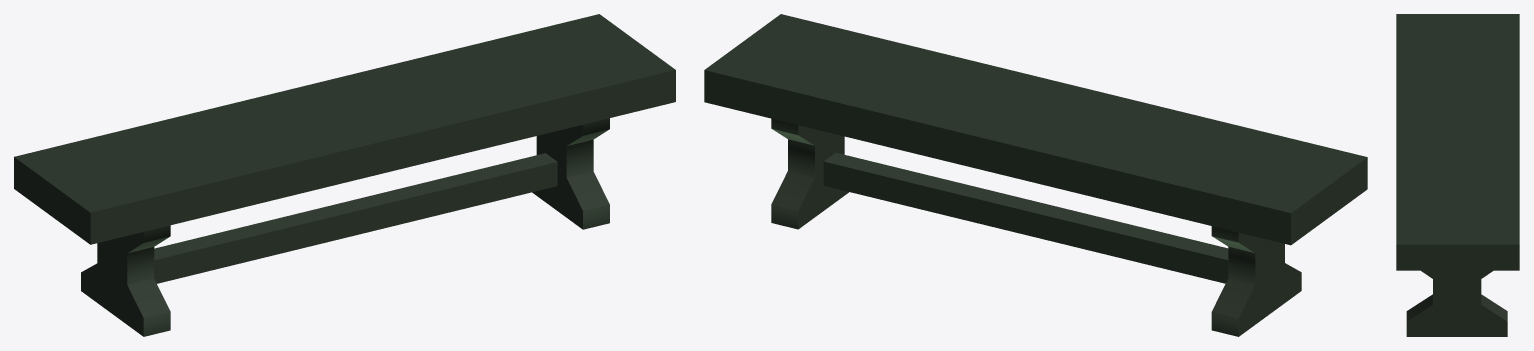
The model's file is SF_Prop_Elven_Bench_01.glb.
3 renders of one model, left to right at view 1: azimuth 30°, elevation 25°; view 2: azimuth 150°, elevation 25°; view 3: azimuth 270°, elevation 25°, orthographic. The views are drawn at different scales.
Visible parts, largest first — view 1: SF_Prop_Elven_Bench_01; view 2: SF_Prop_Elven_Bench_01; view 3: SF_Prop_Elven_Bench_01.
Boxes of the visible parts, <box> form: SF_Prop_Elven_Bench_01: <box>14,14,675,336</box>; SF_Prop_Elven_Bench_01: <box>704,14,1367,336</box>; SF_Prop_Elven_Bench_01: <box>1396,14,1519,336</box>.
Size of the model in its own units: 0.0373 by 0.00873 by 0.00843.
1 material, 1 textured.
